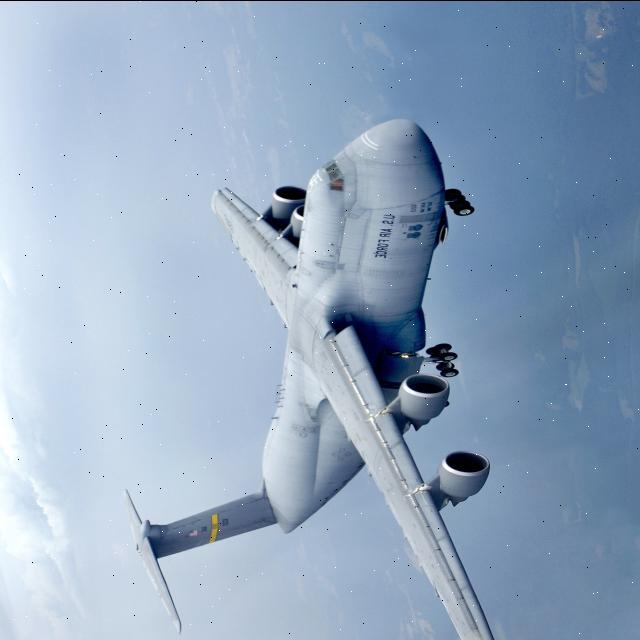C5: (102, 71, 532, 640)
